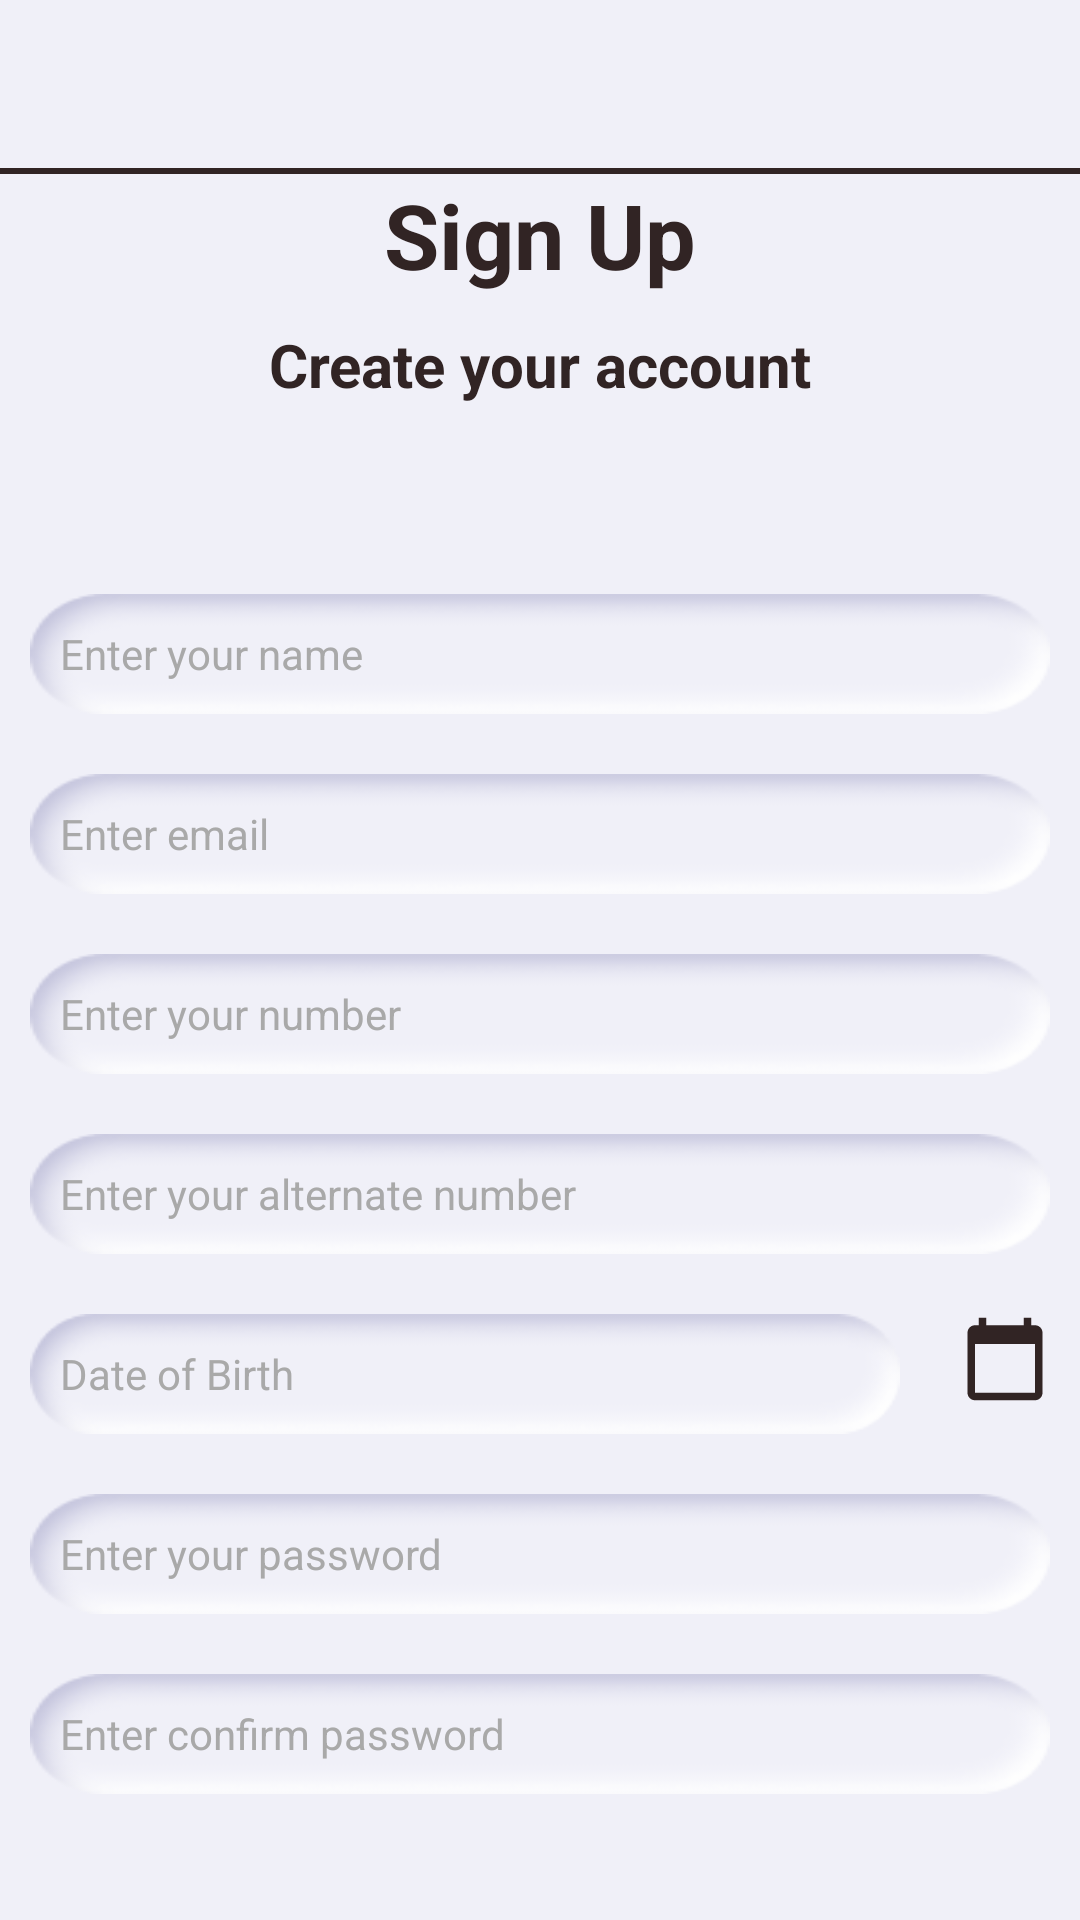

Named icons in this screenshot (1080x1920) and their centers, (x,y):
calendar today: (1005,1359)
